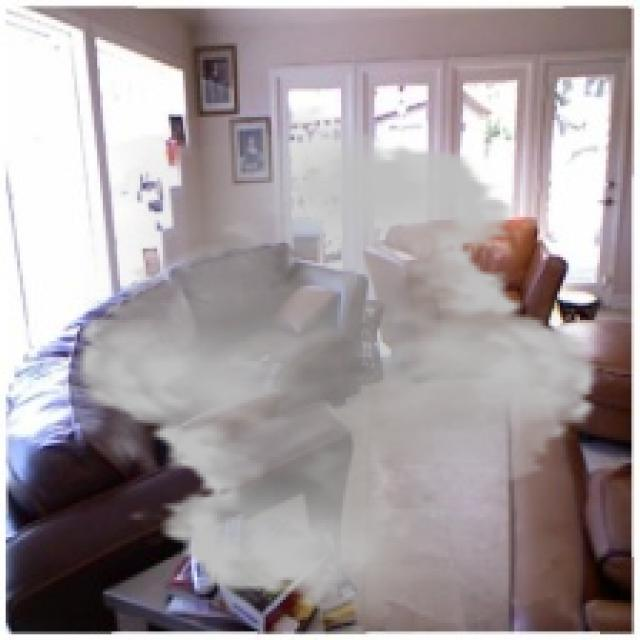smoke: (54, 106, 620, 634)
